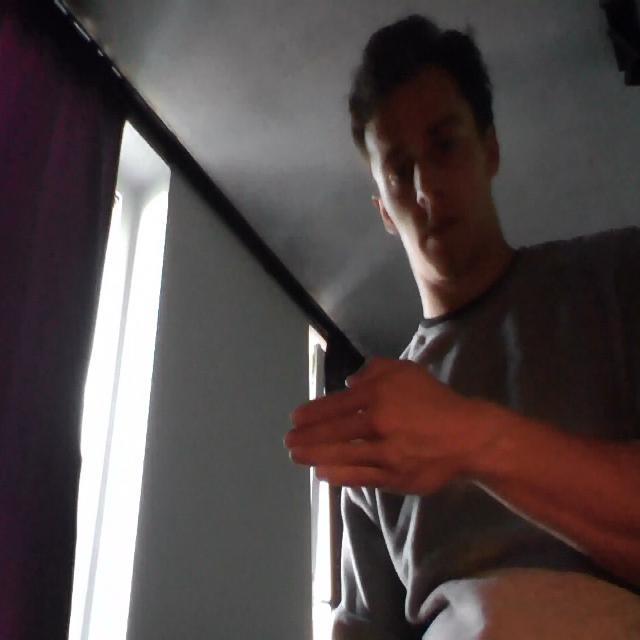left: (277, 349, 473, 508)
